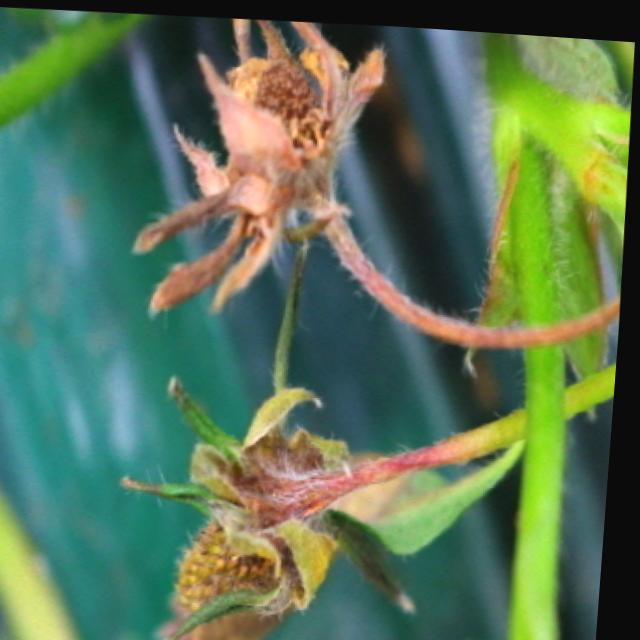Gray Mold: (134, 14, 455, 328), (127, 370, 466, 640)
